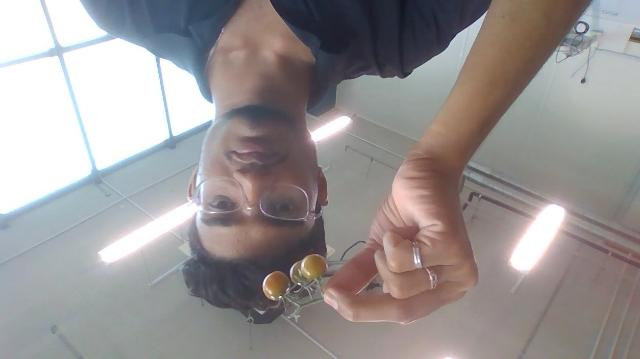Fully Grown: (262, 271, 290, 301), (299, 253, 327, 281), (290, 260, 307, 284)
